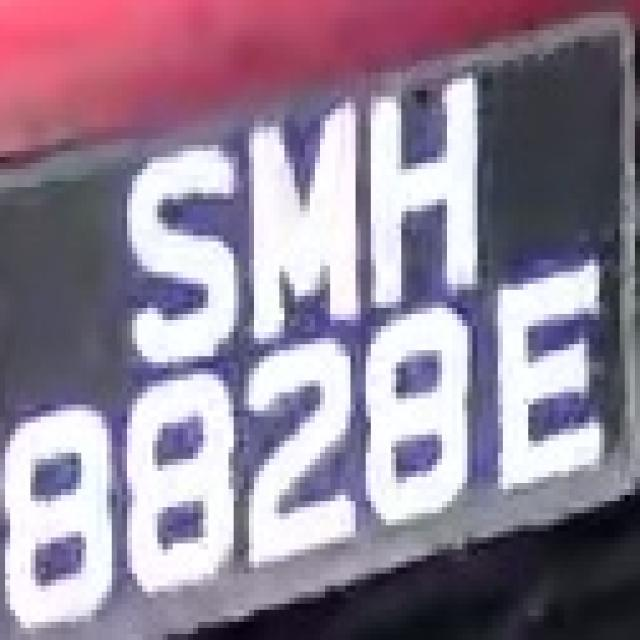2: (238, 302, 366, 586)
8: (350, 302, 488, 543), (122, 362, 249, 592), (20, 398, 117, 634)
E: (478, 242, 620, 507)
H: (350, 60, 482, 314)
M: (244, 115, 366, 356)
S: (112, 115, 234, 368)
